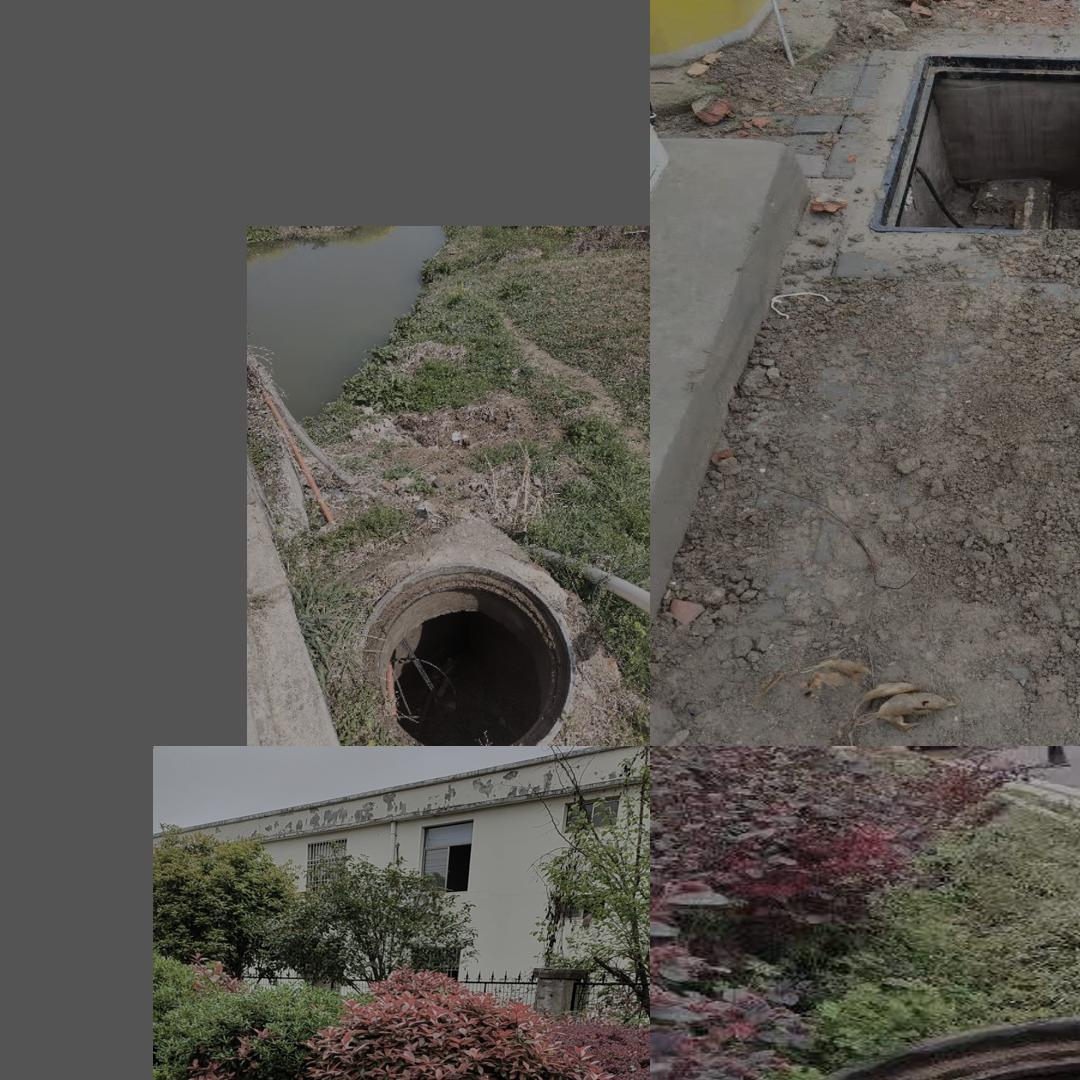lose: (864, 49, 1080, 244), (344, 571, 575, 740), (702, 988, 1080, 1080)
